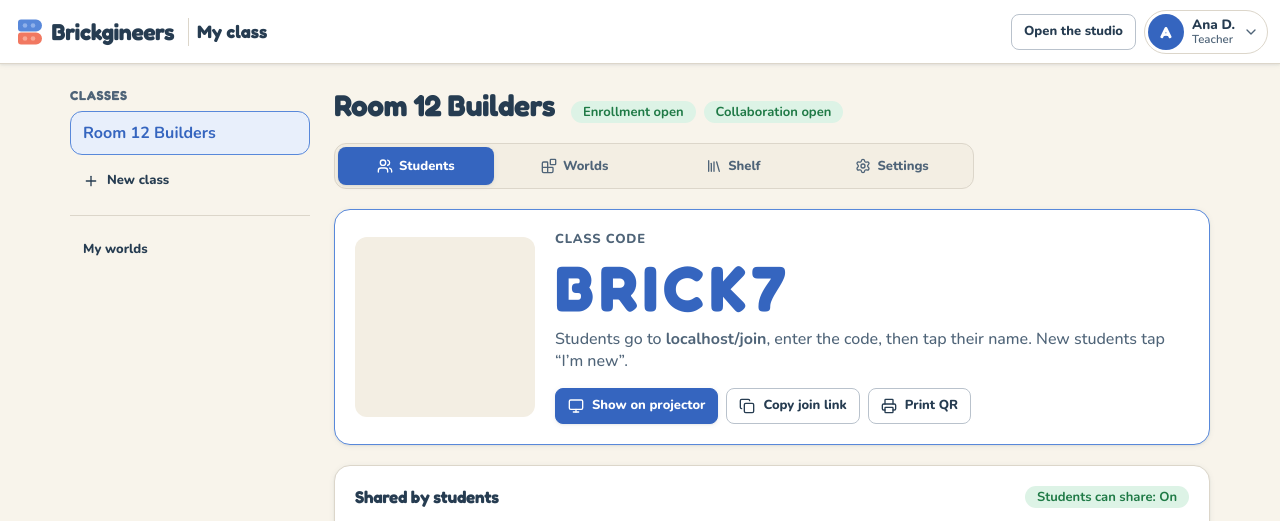
Test case: puts a waiting brick on the shelf
Click the radio button labelled "Shelf" at (733, 166), box left=656, top=147, right=811, bottom=185
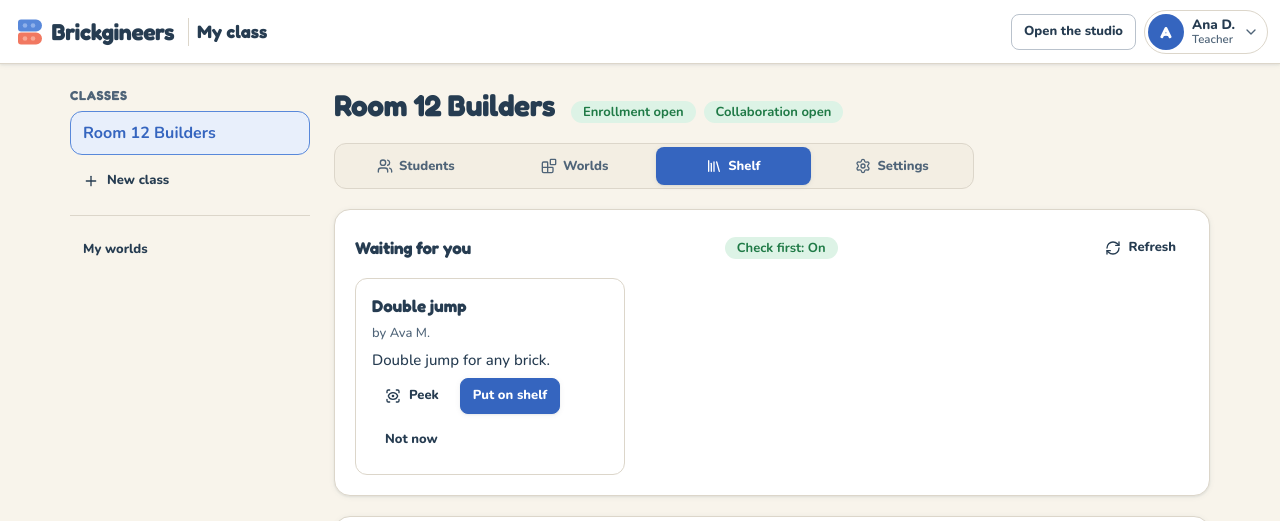
Click the button "Put on shelf" at (510, 396), box left=460, top=378, right=560, bottom=414
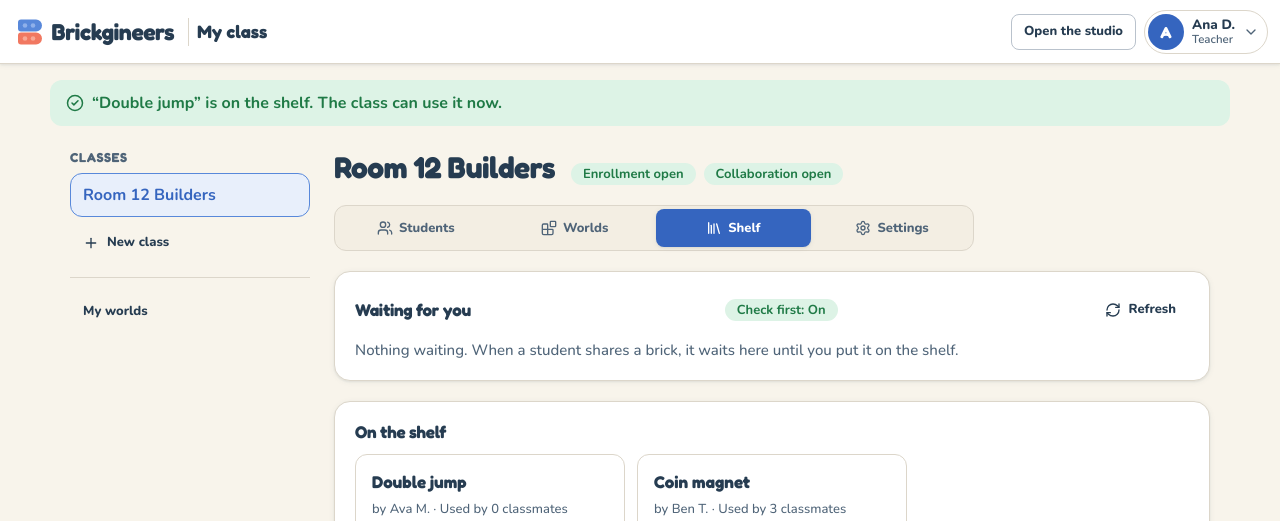
Check: the text "Double jump" is shown, box left=372, top=470, right=466, bottom=492
Check: the text "Nothing waiting" is shown, box left=355, top=340, right=959, bottom=360
Check: the text "“Double jump” is on the shelf. The class can use it now." is shown, box left=92, top=92, right=502, bottom=114
